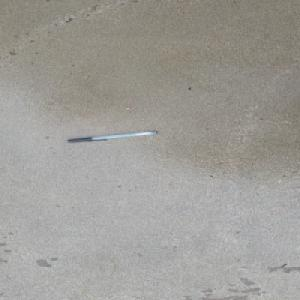Pen: (66, 129, 158, 143)
